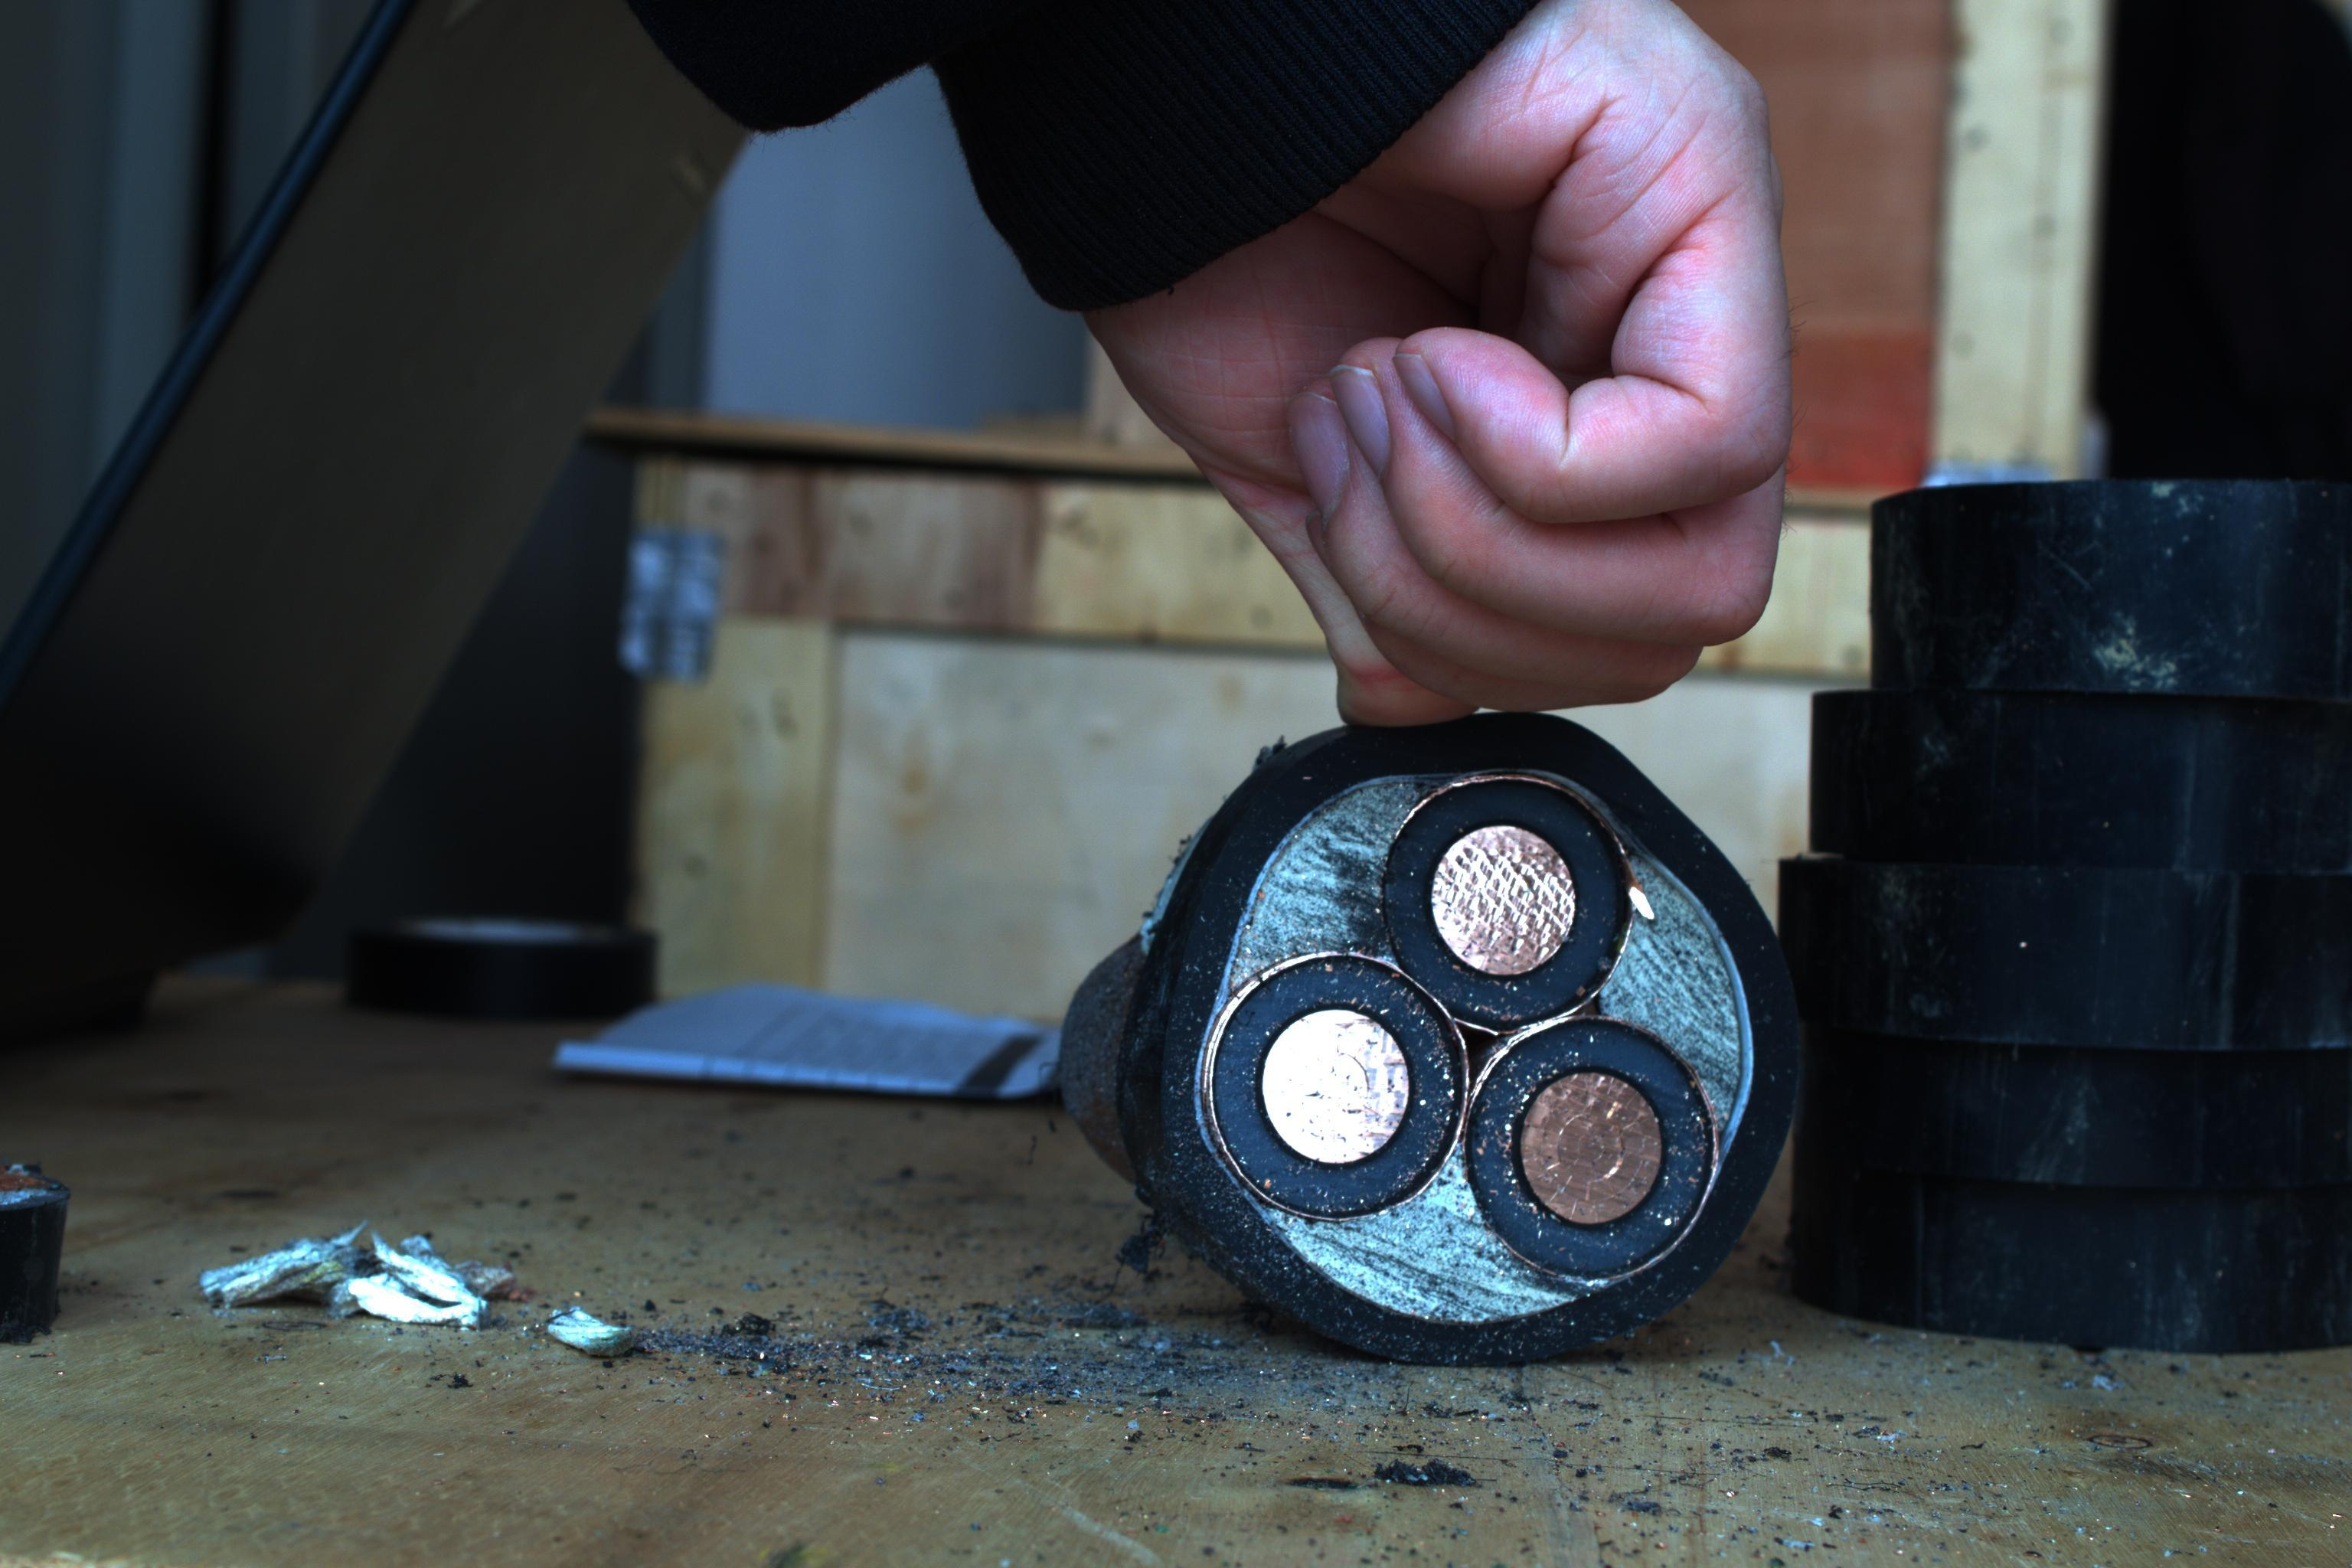ZA_YJV_8.7_10kV_3x240: (1172, 709, 1801, 1323)
